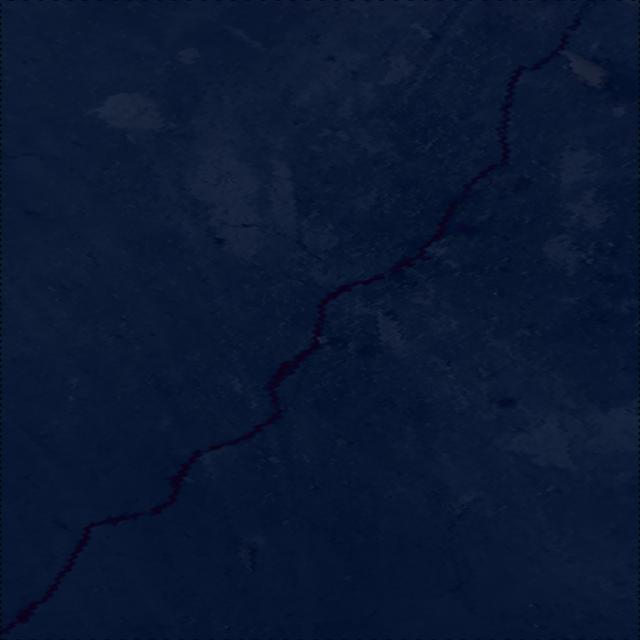crack: (0, 1, 589, 636), (196, 216, 320, 260), (0, 151, 93, 185)
